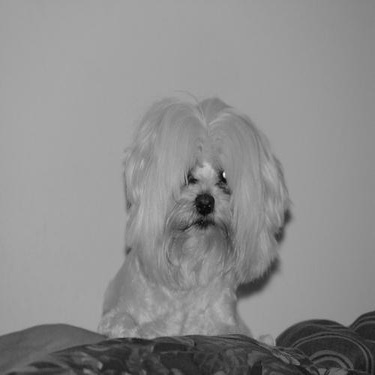dog: (79, 73, 300, 361)
